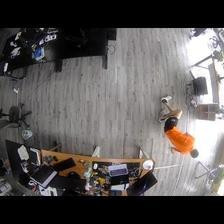fall: (160, 96, 198, 157)
